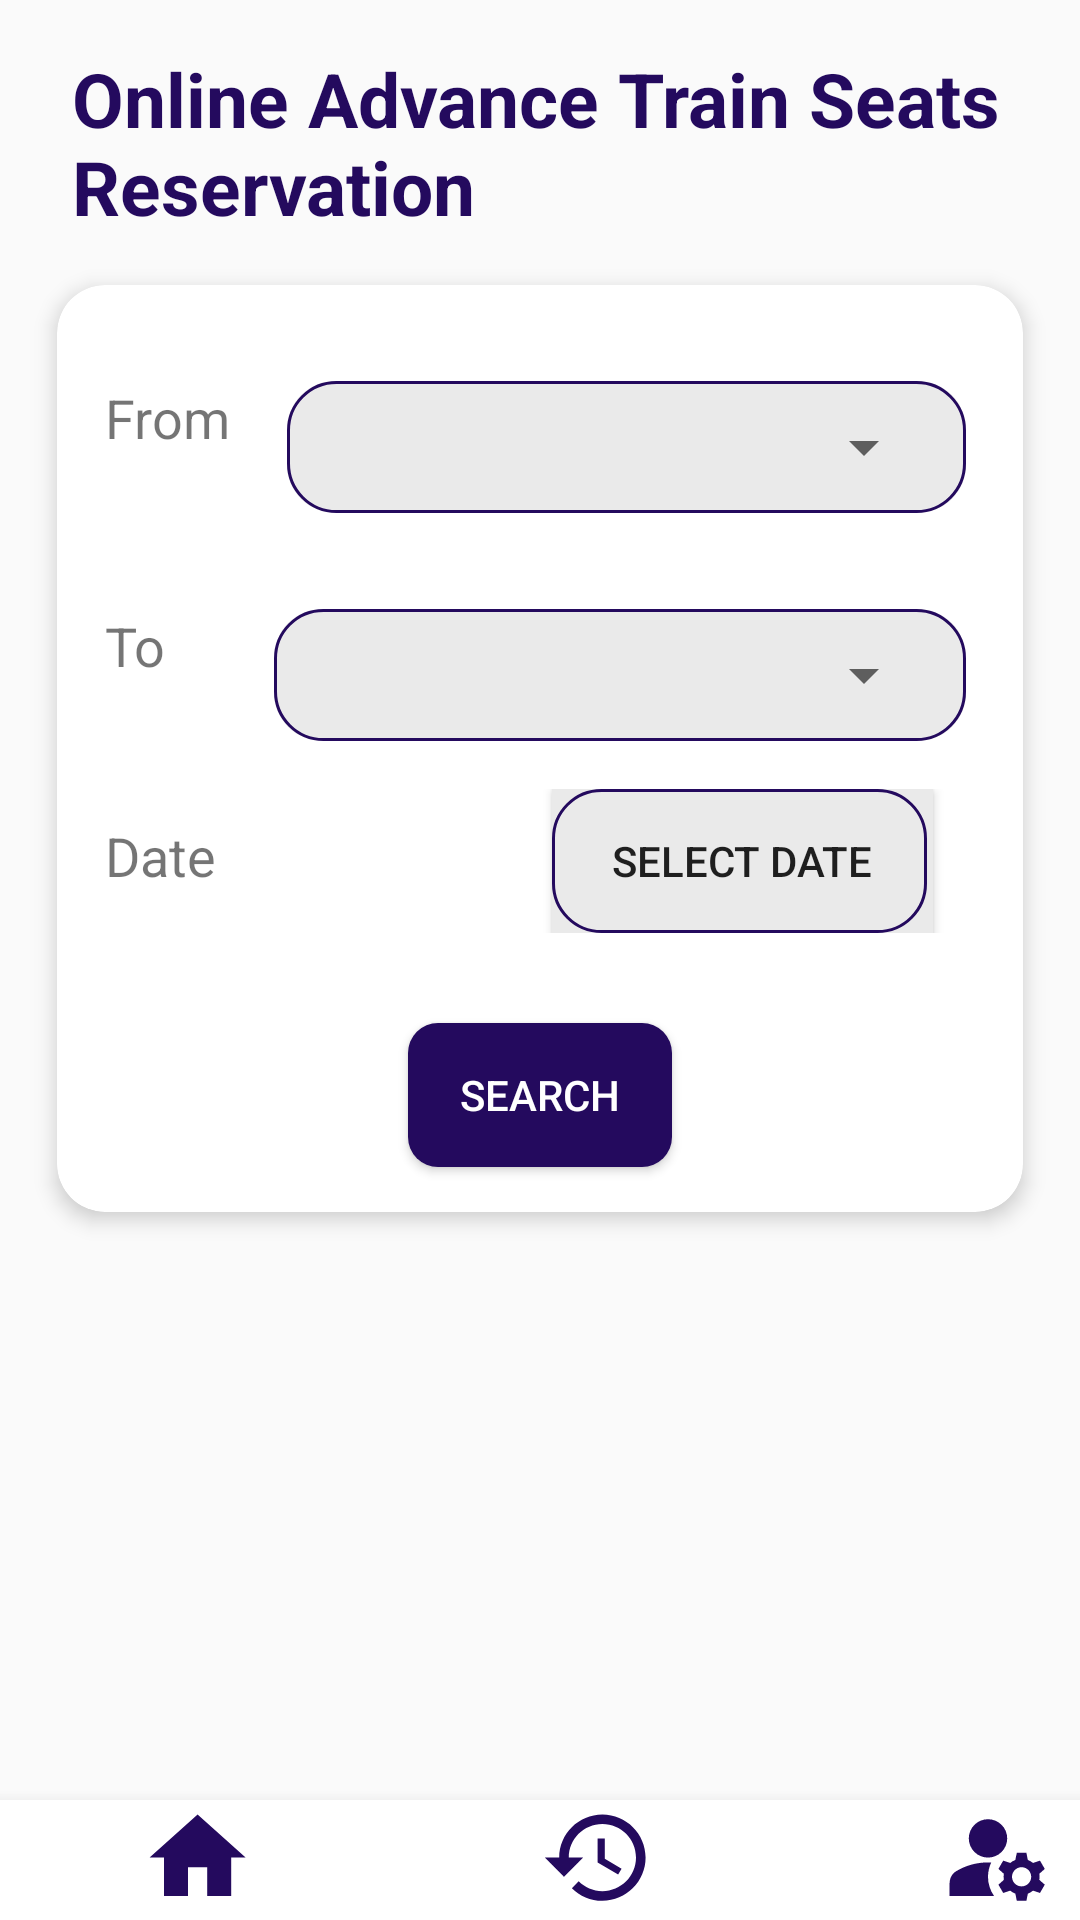

Icons on this 1080w x 1920h Android screen, each with the point to tap as [x,y]:
history: [595,1857]
home: [198,1855]
